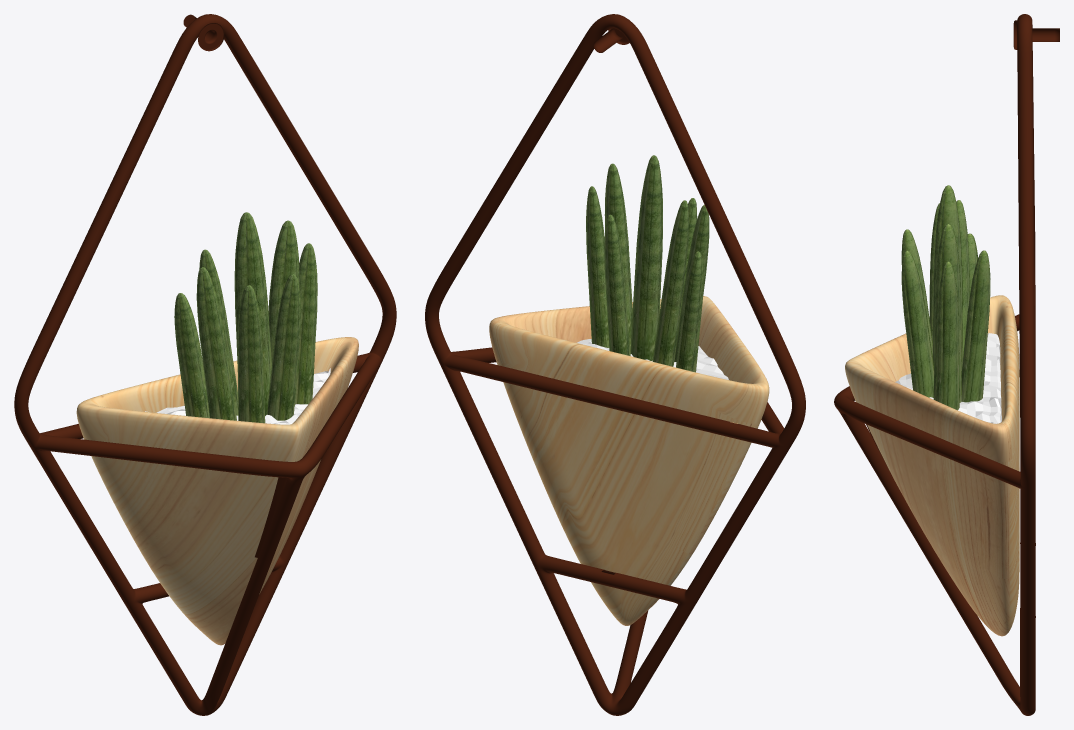
Rendered from Stookie.fbx.
3 renders of one model, left to right at view 1: azimuth 30°, elevation 25°; view 2: azimuth 150°, elevation 25°; view 3: azimuth 270°, elevation 25°, orthographic.
Visible parts, largest first — view 1: plant.001, plant, Sphere.008, Cube; view 2: plant, plant.001, Sphere.008, Cube; view 3: plant, plant.001, Sphere.008, Cube.
Boxes of the visible parts, <box> form: plant.001: <box>14,14,396,715</box>; plant: <box>76,337,358,645</box>; Sphere.008: <box>174,212,317,423</box>; Cube: <box>145,368,330,424</box>; plant: <box>489,296,769,625</box>; plant.001: <box>425,14,805,715</box>; Sphere.008: <box>586,155,709,372</box>; Cube: <box>577,339,728,379</box>; plant: <box>845,295,1019,636</box>; plant.001: <box>834,14,1059,715</box>; Sphere.008: <box>901,185,990,410</box>; Cube: <box>895,333,1001,423</box>.
Size of the model in its own units: 19.86 by 34.99 by 10.25.
4 materials, 2 textured.
